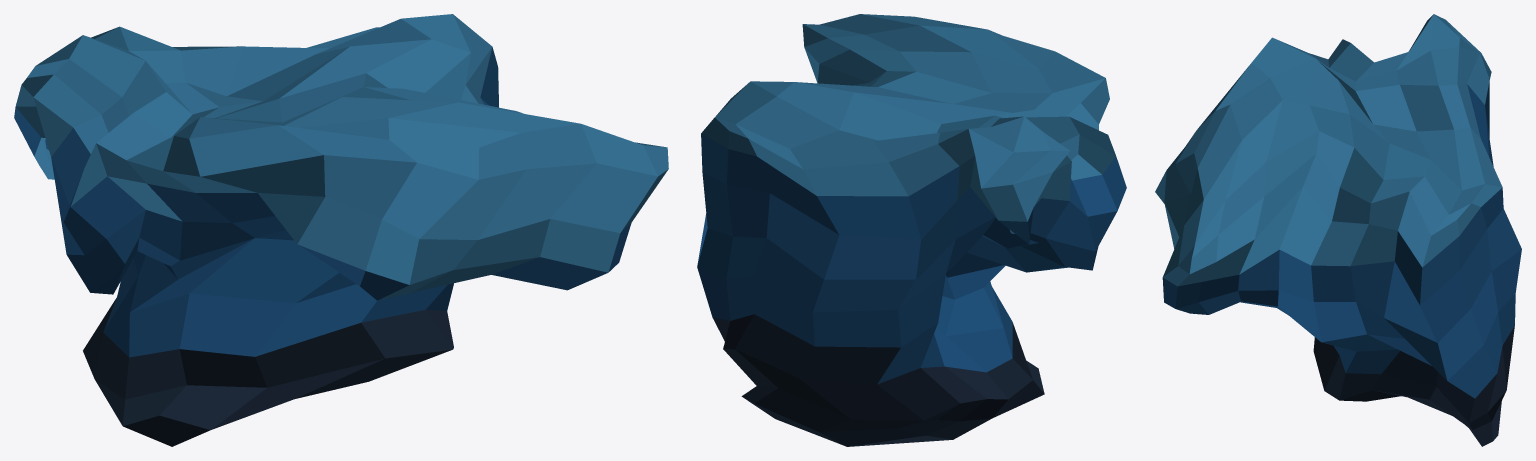
File: rock011.FBX
3 views of the same model, side by side, from view 1: azimuth 30°, elevation 25°; view 2: azimuth 150°, elevation 25°; view 3: azimuth 270°, elevation 25° (orthographic). The views are drawn at different scales.
Visible parts, largest first — view 1: rock_011; view 2: rock_011; view 3: rock_011.
Boxes of the visible parts, left/top/right/bottom form: rock_011: left=14, top=14, right=668, bottom=446; rock_011: left=697, top=14, right=1126, bottom=446; rock_011: left=1155, top=14, right=1521, bottom=446.
Bounding box in the file's own units: 13.69 × 11.3 × 11.16.
